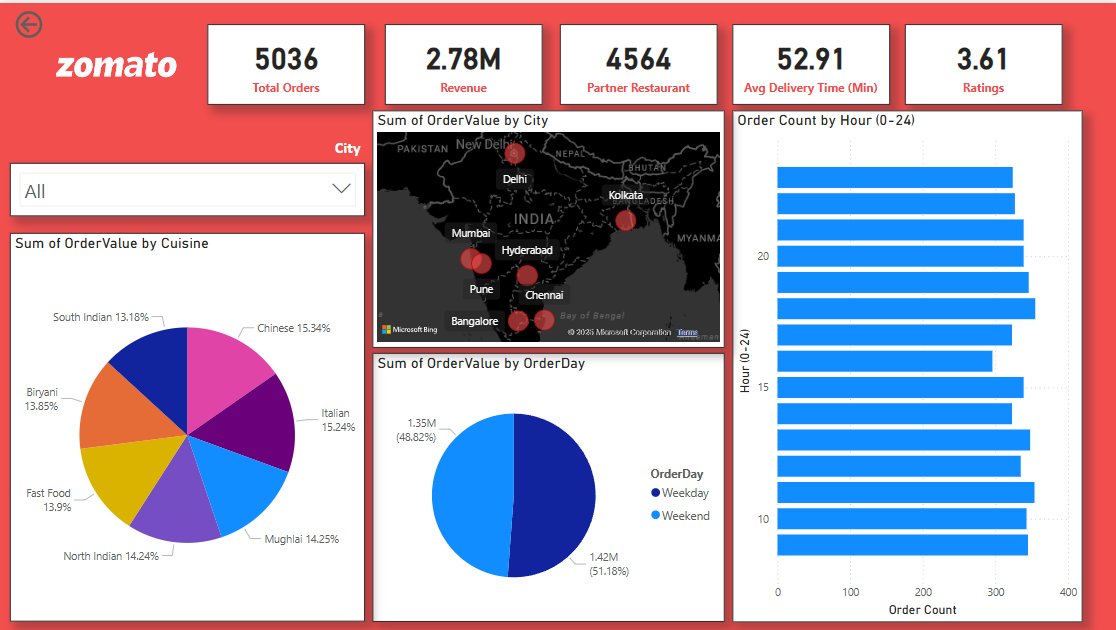

What the dashboard file says about the page in this screenshot:
{"tool":"powerbi","page":{"name":"Zomato","canvas":[1280,720],"ordinal":2},"visuals":[{"type":"slicer","fields":{"Values":["swiggy_vs_zomato_dummy_data.City"]},"box":[12.1,183.2,405.8,60.6],"z":0},{"type":"card","fields":{"Values":["CountNonNull(swiggy_vs_zomato_dummy_data.Platform)"]},"box":[237.7,24.2,180.2,92.4],"z":1000},{"type":"card","fields":{"Values":["Sum(swiggy_vs_zomato_dummy_data.OrderValue)"]},"box":[440.6,24.2,180.2,92.4],"z":2000},{"type":"card","fields":{"Values":["Count(swiggy_vs_zomato_dummy_data.Restaurant)"]},"box":[640.5,24.2,180.2,92.4],"z":3000},{"type":"card","fields":{"Values":["Avg(swiggy_vs_zomato_dummy_data.DeliveryTime)"]},"box":[837.4,24.2,180.2,92.4],"z":4000},{"type":"card","fields":{"Values":["Avg(swiggy_vs_zomato_dummy_data.CustomerRating)"]},"box":[1034.2,24.2,180.2,92.4],"z":5000},{"type":"textbox","box":[12.1,148.4,405.8,37.9],"z":6000},{"type":"pieChart","fields":{"Category":["swiggy_vs_zomato_dummy_data.OrderDay"],"Y":["Sum(swiggy_vs_zomato_dummy_data.OrderValue)"]},"box":[425.6,400,402.8,307.2],"z":7000},{"type":"barChart","fields":{"Category":["swiggy_vs_zomato_dummy_data.OrderHour"],"Y":["CountNonNull(swiggy_vs_zomato_dummy_data.OrderDay)"]},"box":[837.4,122.7,399.8,584.5],"z":8000},{"type":"pieChart","fields":{"Y":["Sum(swiggy_vs_zomato_dummy_data.OrderValue)"],"Category":["swiggy_vs_zomato_dummy_data.Cuisine"]},"box":[12.1,263.5,405.8,443.7],"z":9000},{"type":"map","fields":{"Category":["swiggy_vs_zomato_dummy_data.City"],"Size":["Sum(swiggy_vs_zomato_dummy_data.OrderValue)"]},"box":[425,122.8,402.8,271.1],"z":10000},{"type":"image","box":[51.4,14.9,163.6,112.2],"z":11000},{"type":"actionButton","box":[12.2,4.1,100,40.6],"z":12000}]}

Visuals, with their boxes in screenshot pixels (x1, y1, x2, y2), scaled from the page's 1280x720 canvas onto the 1116x630 screenshot:
slicer - swiggy_vs_zomato_dummy_data.City: [left=11, top=160, right=364, bottom=213]
card - CountNonNull(swiggy_vs_zomato_dummy_data.Platform): [left=207, top=21, right=364, bottom=102]
card - Sum(swiggy_vs_zomato_dummy_data.OrderValue): [left=384, top=21, right=541, bottom=102]
card - Count(swiggy_vs_zomato_dummy_data.Restaurant): [left=558, top=21, right=716, bottom=102]
card - Avg(swiggy_vs_zomato_dummy_data.DeliveryTime): [left=730, top=21, right=887, bottom=102]
card - Avg(swiggy_vs_zomato_dummy_data.CustomerRating): [left=902, top=21, right=1059, bottom=102]
textbox: [left=11, top=130, right=364, bottom=163]
pieChart - swiggy_vs_zomato_dummy_data.OrderDay x Sum(swiggy_vs_zomato_dummy_data.OrderValue): [left=371, top=350, right=722, bottom=619]
barChart - swiggy_vs_zomato_dummy_data.OrderHour x CountNonNull(swiggy_vs_zomato_dummy_data.OrderDay): [left=730, top=107, right=1079, bottom=619]
pieChart - Sum(swiggy_vs_zomato_dummy_data.OrderValue) x swiggy_vs_zomato_dummy_data.Cuisine: [left=11, top=231, right=364, bottom=619]
map - swiggy_vs_zomato_dummy_data.City x Sum(swiggy_vs_zomato_dummy_data.OrderValue): [left=371, top=107, right=722, bottom=345]
image: [left=45, top=13, right=187, bottom=111]
actionButton: [left=11, top=4, right=98, bottom=39]
